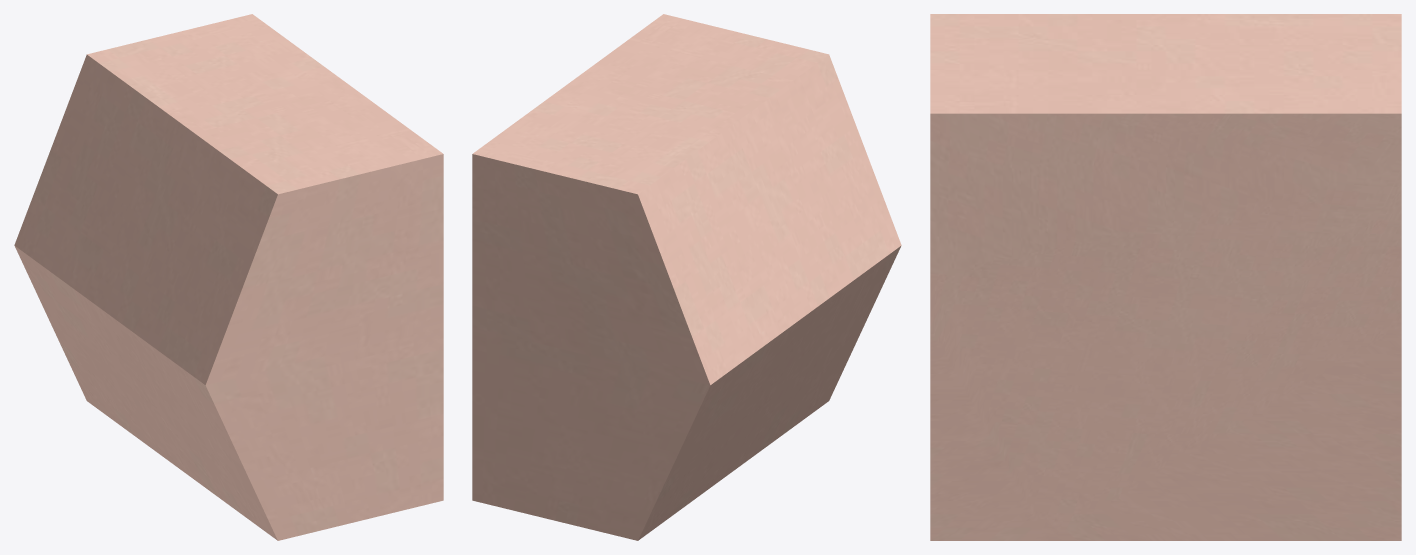
File: loop0-001.glb
The picture shows the model from 3 angles, left to right: view 1: azimuth 30°, elevation 25°; view 2: azimuth 150°, elevation 25°; view 3: azimuth 270°, elevation 25°; orthographic projection. The views are drawn at different scales.
Visible parts, largest first — view 1: loop0.001; view 2: loop0.001; view 3: loop0.001.
Boxes of the visible parts, x1,y1,x2,y2 form: loop0.001: (14, 14, 443, 540); loop0.001: (472, 14, 901, 540); loop0.001: (930, 14, 1401, 540).
Size of the model in its own units: 1.44 by 2 by 2.
Materials: 1 (1 with a texture image).
